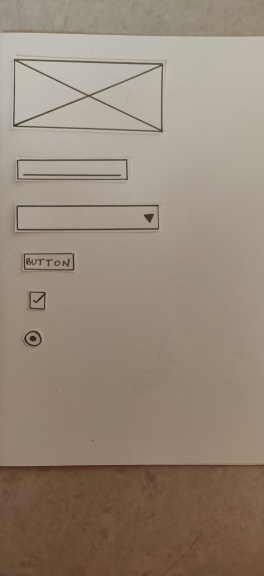button: (25, 252, 76, 270)
checkbox: (26, 291, 47, 310)
dropdown: (15, 206, 161, 234)
img: (13, 58, 162, 130)
radio: (14, 328, 54, 353)
text: (17, 158, 130, 178)
